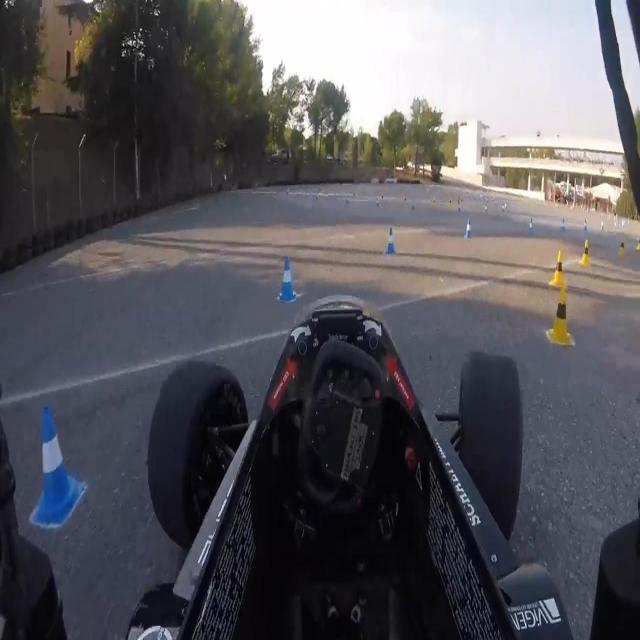blue_cone: (32, 405, 82, 535), (274, 247, 299, 308), (384, 226, 397, 256), (463, 216, 474, 240), (528, 216, 534, 235), (560, 214, 566, 233), (583, 220, 588, 234)
yellow_cone: (547, 290, 573, 348), (549, 249, 567, 289), (580, 240, 592, 267), (618, 238, 627, 259), (636, 236, 640, 252)
